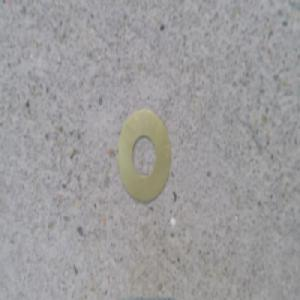Washer: (116, 107, 172, 204)
